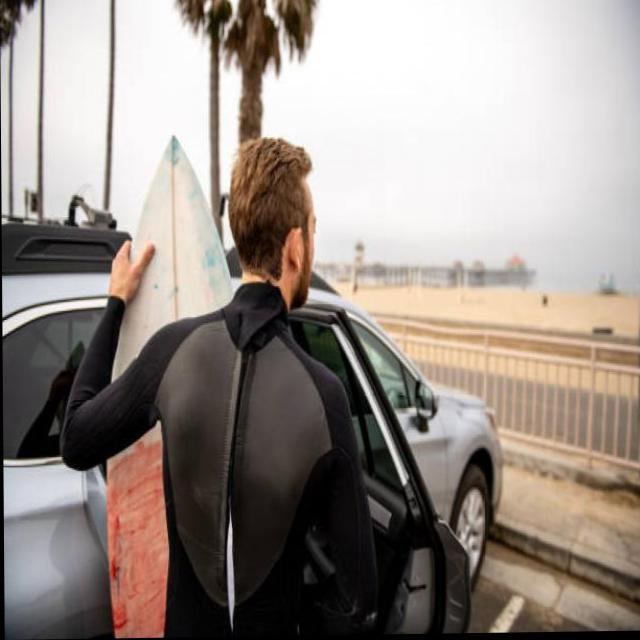no helmet: (201, 105, 331, 345)
